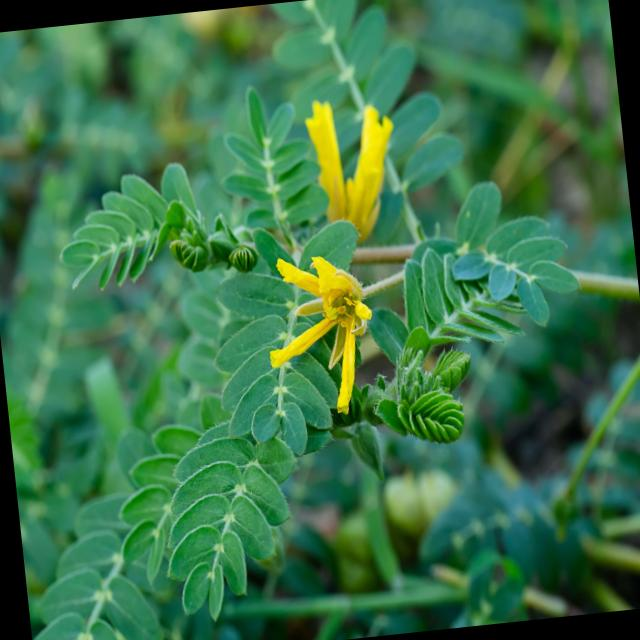Gokharu: (38, 68, 510, 486), (61, 285, 518, 606), (238, 152, 534, 522)
